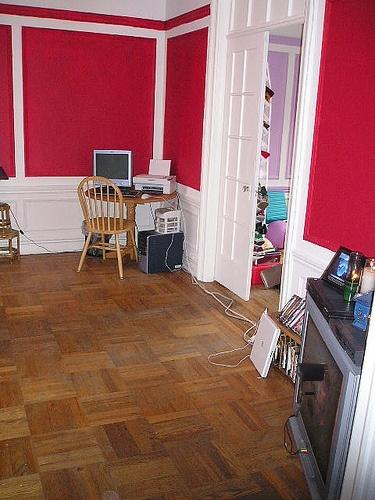tampered: (296, 364, 327, 417)
